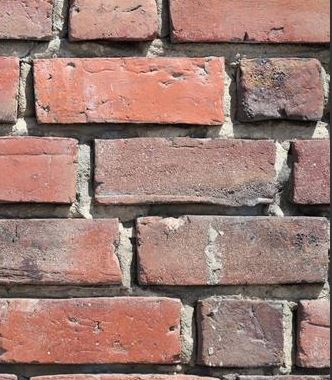brick: (30, 54, 228, 127), (133, 214, 332, 286), (1, 296, 183, 369), (90, 135, 277, 205), (1, 214, 123, 284), (164, 1, 331, 49), (196, 295, 286, 368), (232, 58, 329, 125), (1, 132, 84, 205), (63, 1, 154, 42), (291, 137, 332, 204), (1, 1, 55, 41)
